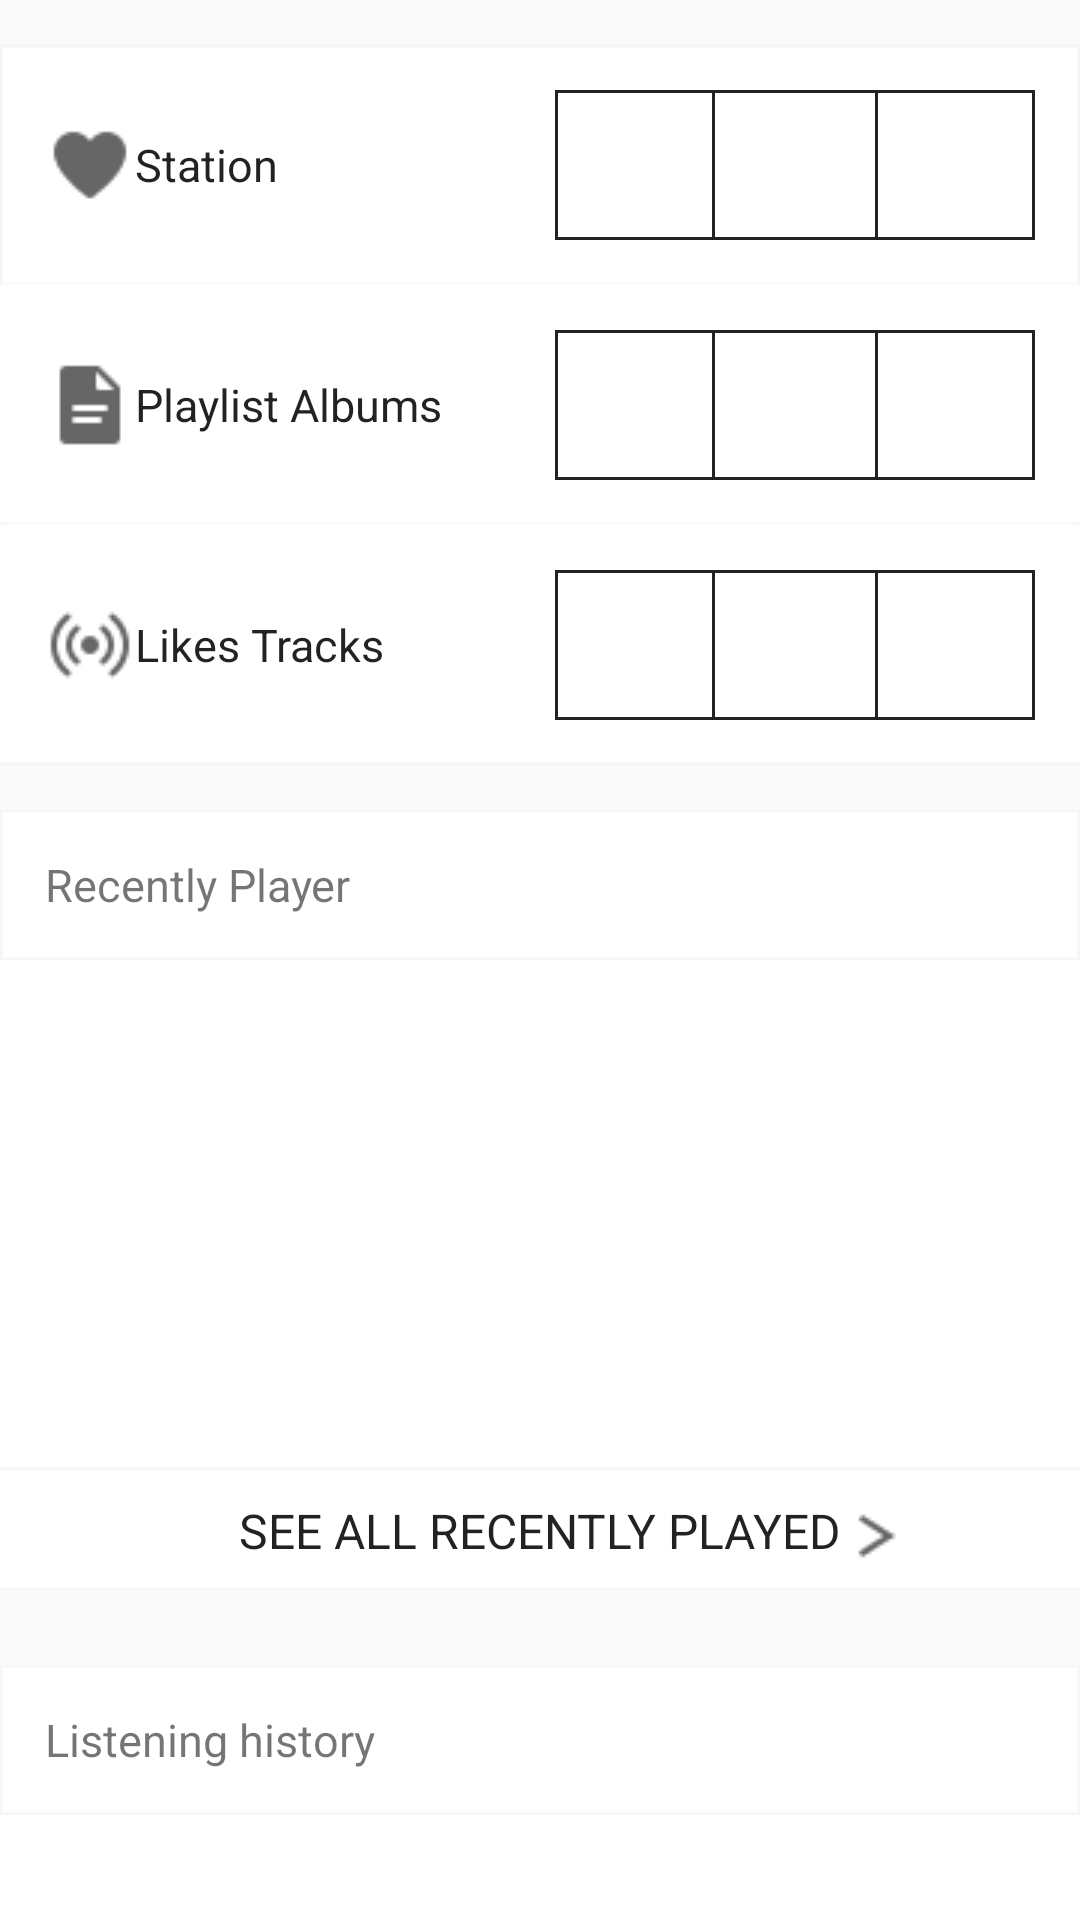

Named icons in this screenshot (1080 x 1920) and their centers, [x,y]:
nextpage: [876,1536]
